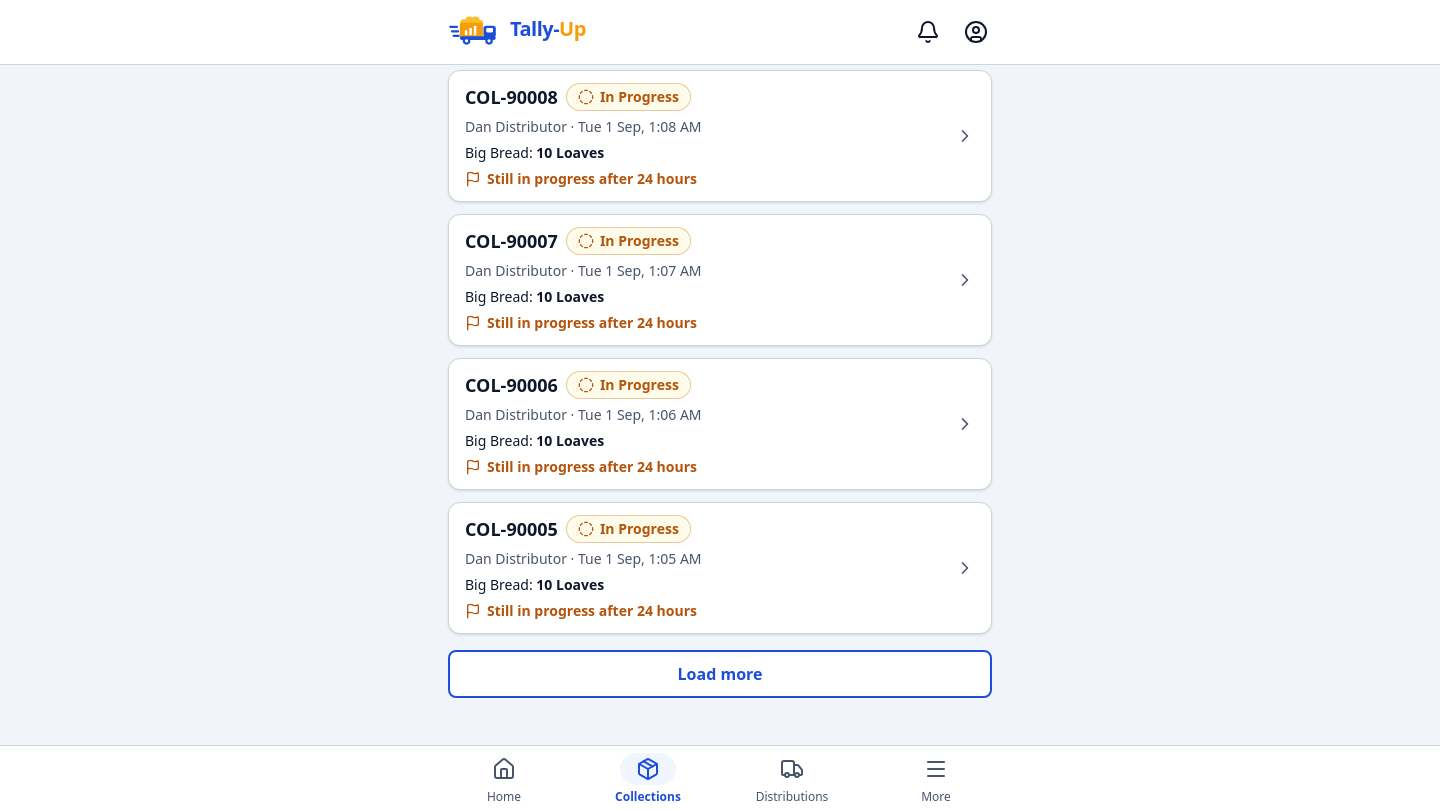
Test: Collections list › Q-59g: loads 25 at a time, with Load more
This screenshot has width=1440, height=810.
(page scrolled)
Click the button "Load more" at [720, 674], box x1=448 y1=650 x2=992 y2=698
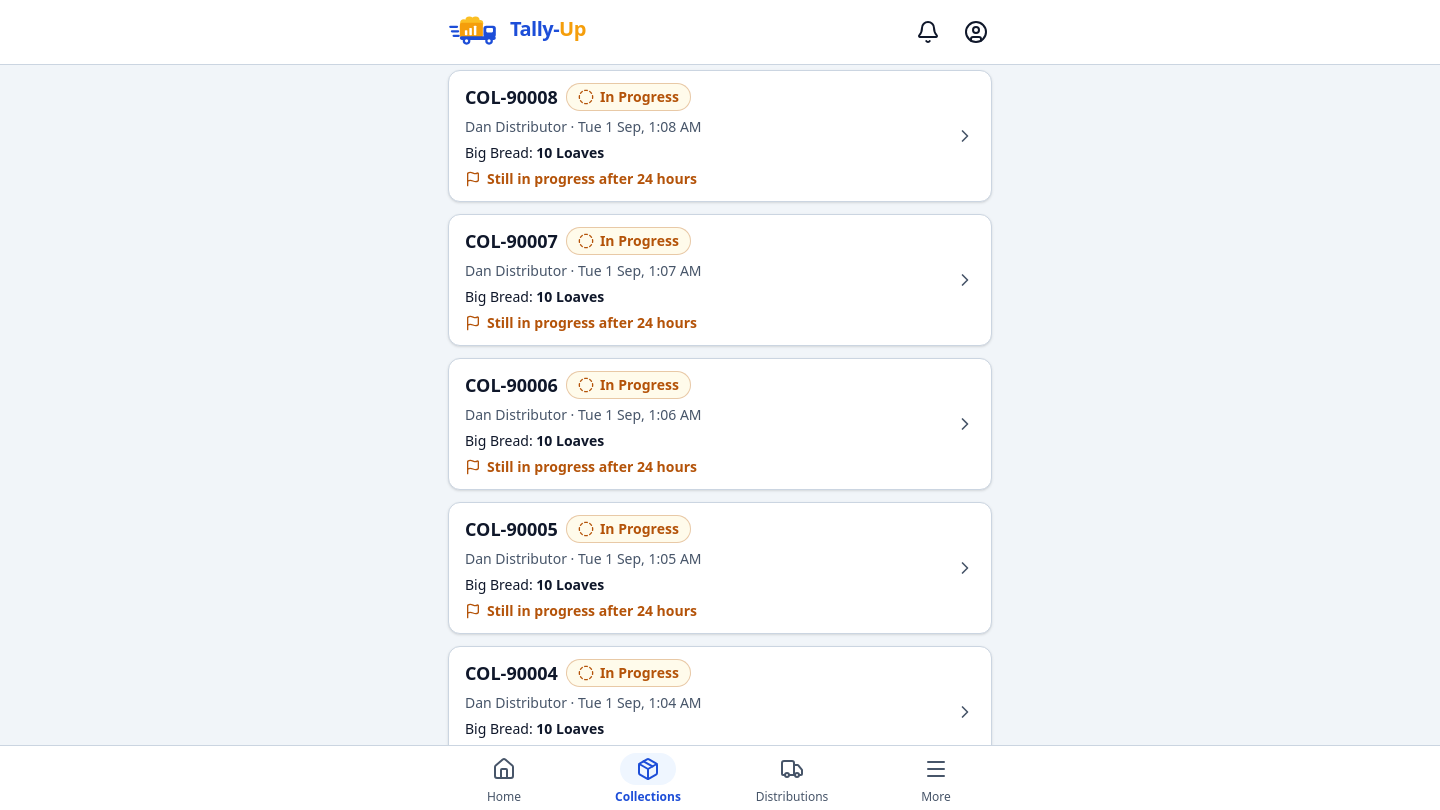
Result: the button "Load more" is gone
